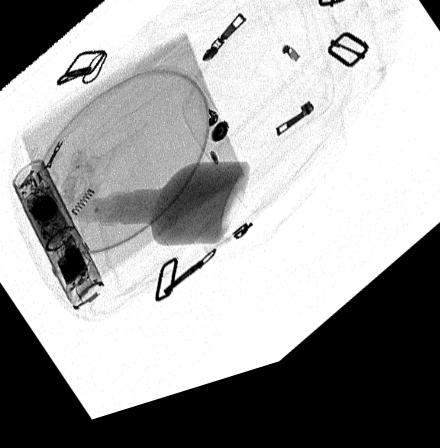Baton: (12, 161, 104, 315)
